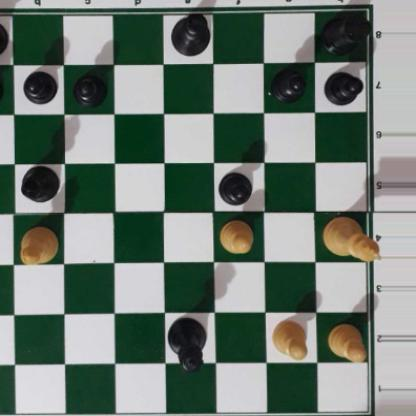black-bishop: (18, 165, 62, 202)
black-king: (168, 11, 212, 55)
black-pawn: (323, 68, 361, 105), (270, 66, 305, 101), (22, 69, 55, 104), (219, 169, 252, 204), (72, 70, 105, 105), (0, 70, 2, 104)
black-queen: (168, 316, 208, 374)
black-rook: (321, 10, 371, 54), (0, 12, 9, 57)
white-bishop: (19, 227, 58, 264)
white-king: (321, 218, 380, 261)
white-pawn: (270, 318, 309, 360), (327, 322, 366, 361), (217, 217, 254, 256)
